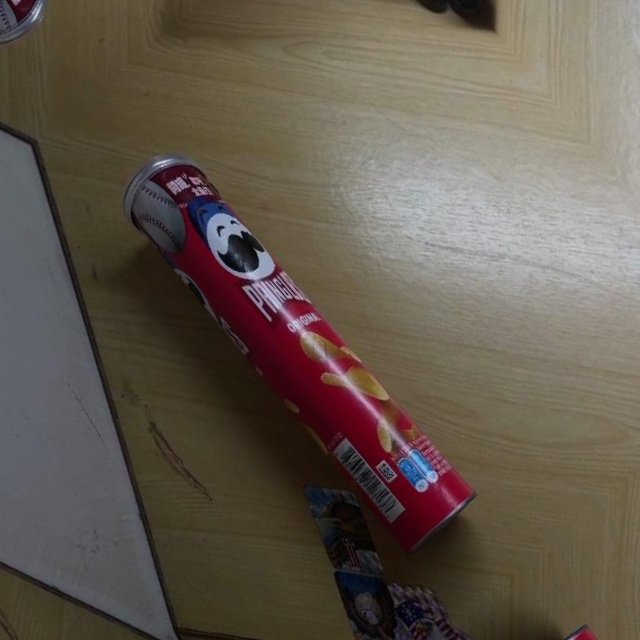Pringles: (106, 134, 484, 559)
